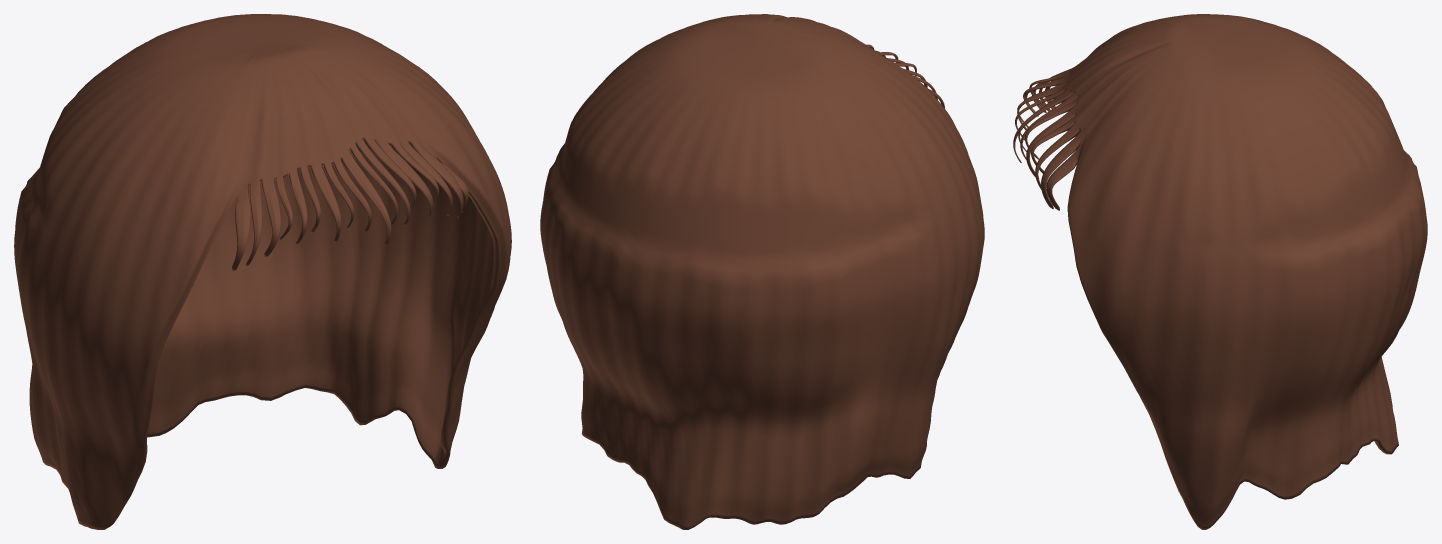
The model's file is side-sweep-bucket.glb.
3 renders of one model, left to right at view 1: azimuth 30°, elevation 25°; view 2: azimuth 150°, elevation 25°; view 3: azimuth 270°, elevation 25°, orthographic. The views are drawn at different scales.
Parts seen in each view (by area): view 1: Wispy bangs / continuous crown; view 2: Wispy bangs / continuous crown; view 3: Wispy bangs / continuous crown.
Part boxes in pixels (x1,y1,x2,y2): Wispy bangs / continuous crown: (14, 14, 511, 529); Wispy bangs / continuous crown: (540, 14, 984, 529); Wispy bangs / continuous crown: (1013, 14, 1427, 529).
Bounding box in the file's own units: 0.8388 × 0.8732 × 0.7867.
